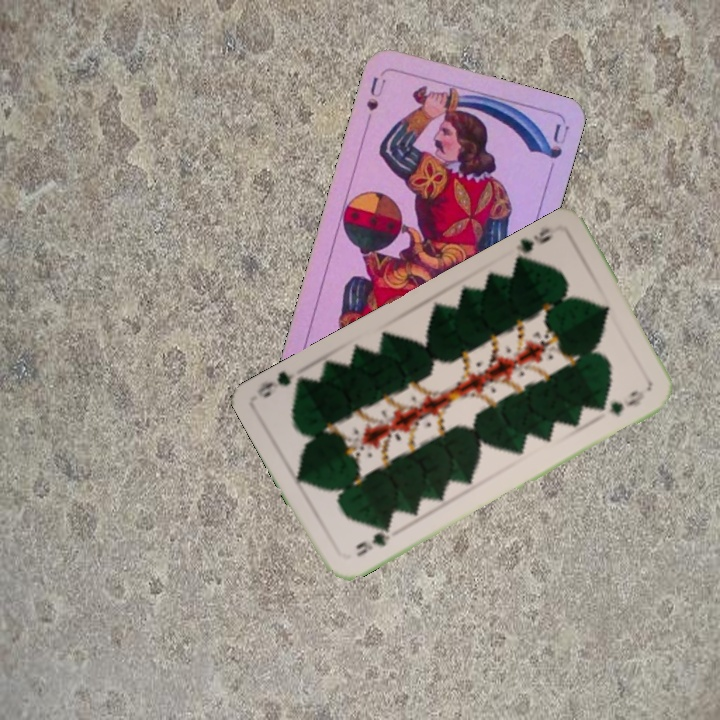G9: (511, 223, 556, 265), (351, 521, 394, 560)
SU: (362, 72, 389, 114)
